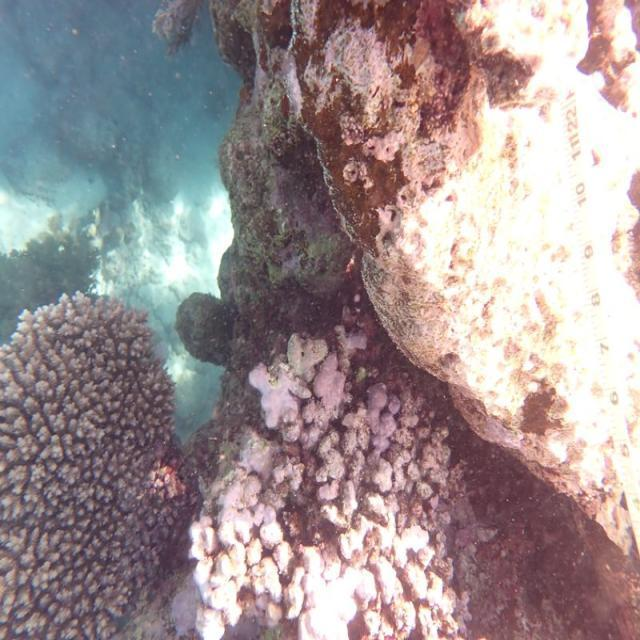Bleached Coral: (186, 341, 467, 640)
